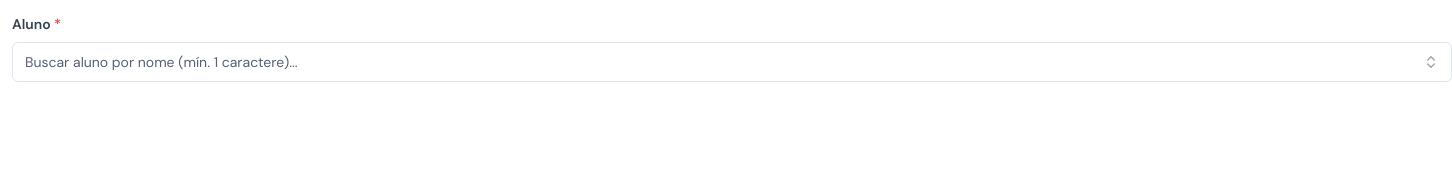
UI Tests — Gate de Papel e Seleção de Aluno (Task 14.2) › Seleção de Aluno (Req 2.1 - 2.6) › exibe mensagem de erro quando a busca de alunos falha
This screenshot has width=1452, height=172.
Type "Qualquer" into the field with placeholder "Buscar aluno por nome (mín. 1 caractere)..." at (720, 62), box [25,52,1415,72]
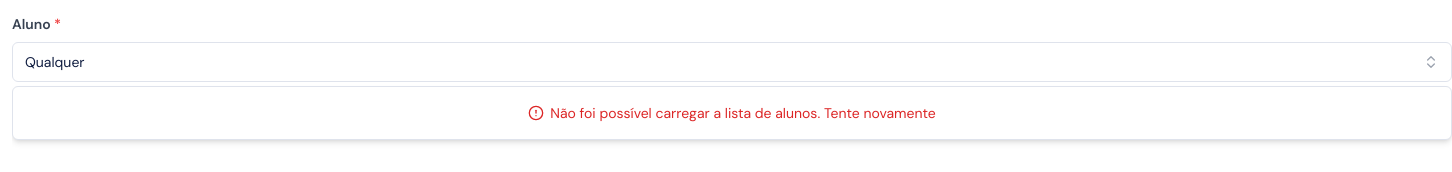
Expected: the text "Não foi possível carregar a lista de alunos. Tente novamente" is shown, [550,103,936,123]
